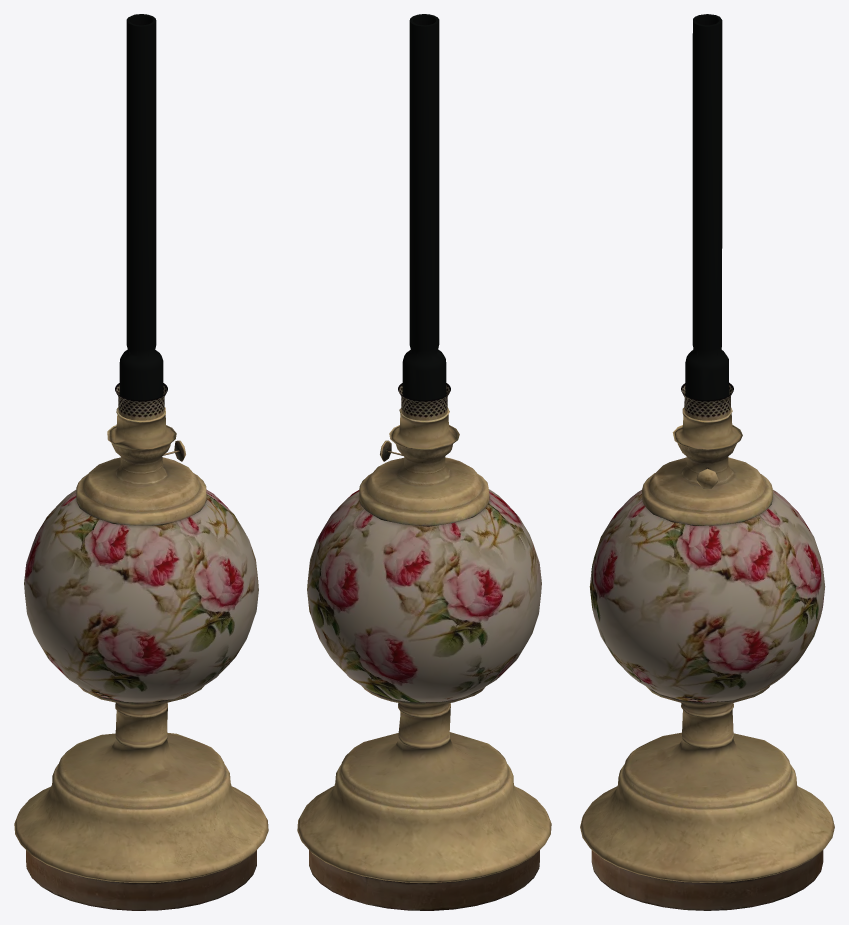
Rendered from vintage_oil_lamp.glb.
3 views of the same model, side by side, from view 1: azimuth 30°, elevation 25°; view 2: azimuth 150°, elevation 25°; view 3: azimuth 270°, elevation 25° (orthographic).
Parts seen in each view (by area): view 1: vintage_oil_lamp, vintage_oil_lamp_glass; view 2: vintage_oil_lamp, vintage_oil_lamp_glass; view 3: vintage_oil_lamp, vintage_oil_lamp_glass.
Boxes of the visible parts, box(x1,y1,x2,y2) form: vintage_oil_lamp: box(14, 407, 268, 910); vintage_oil_lamp_glass: box(115, 14, 167, 420); vintage_oil_lamp: box(297, 407, 551, 910); vintage_oil_lamp_glass: box(398, 14, 450, 420); vintage_oil_lamp: box(580, 407, 834, 910); vintage_oil_lamp_glass: box(681, 14, 733, 420).
Size of the model in its own units: 0.22 by 0.8016 by 0.22.
Materials: 3 (3 with a texture image).
